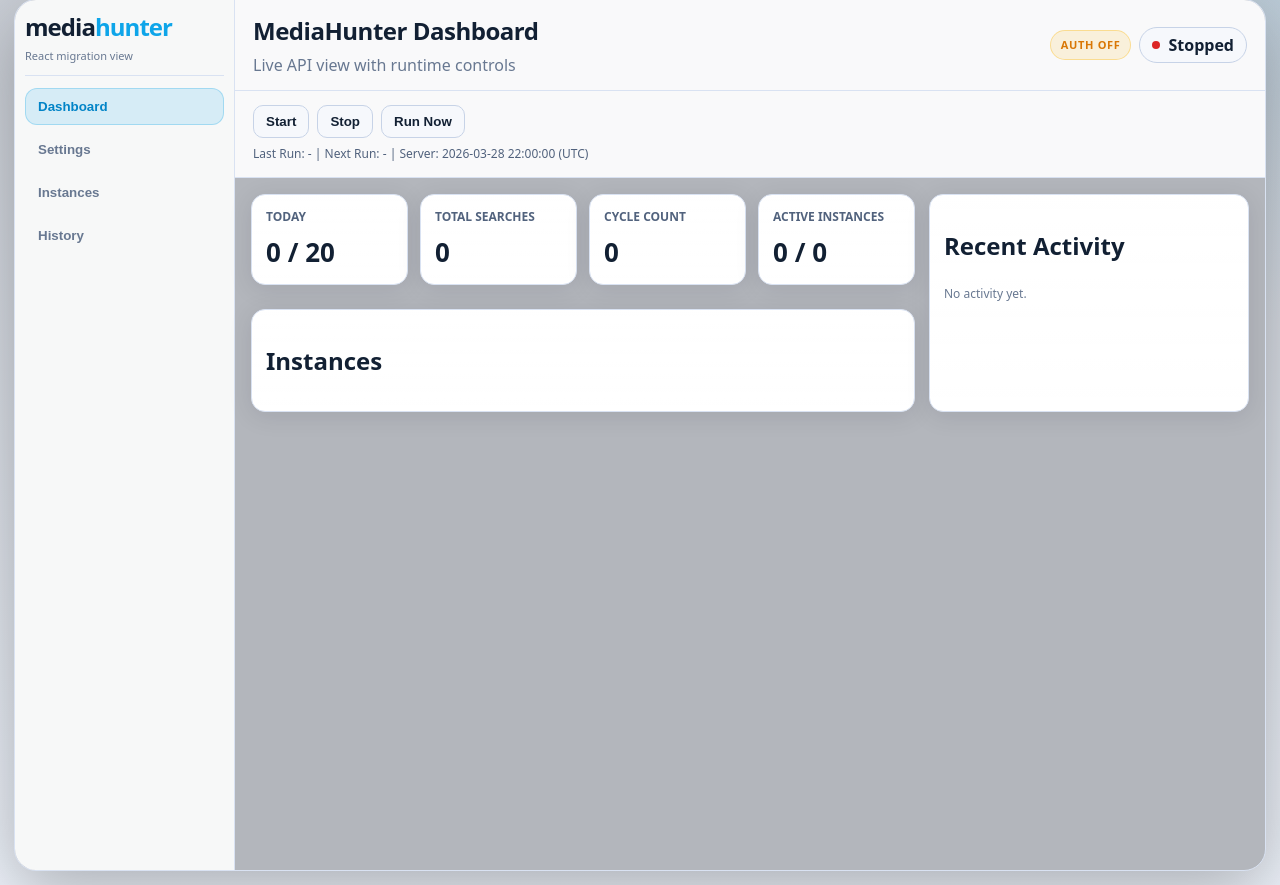
Test: DashboardPage › allows switching between tabs
This screenshot has width=1280, height=885.
expect the button "Dashboard" is shown: met, box [25,88,224,125]
Click the button "Settings": (124, 150) [25,131,224,168]
(page scrolled)
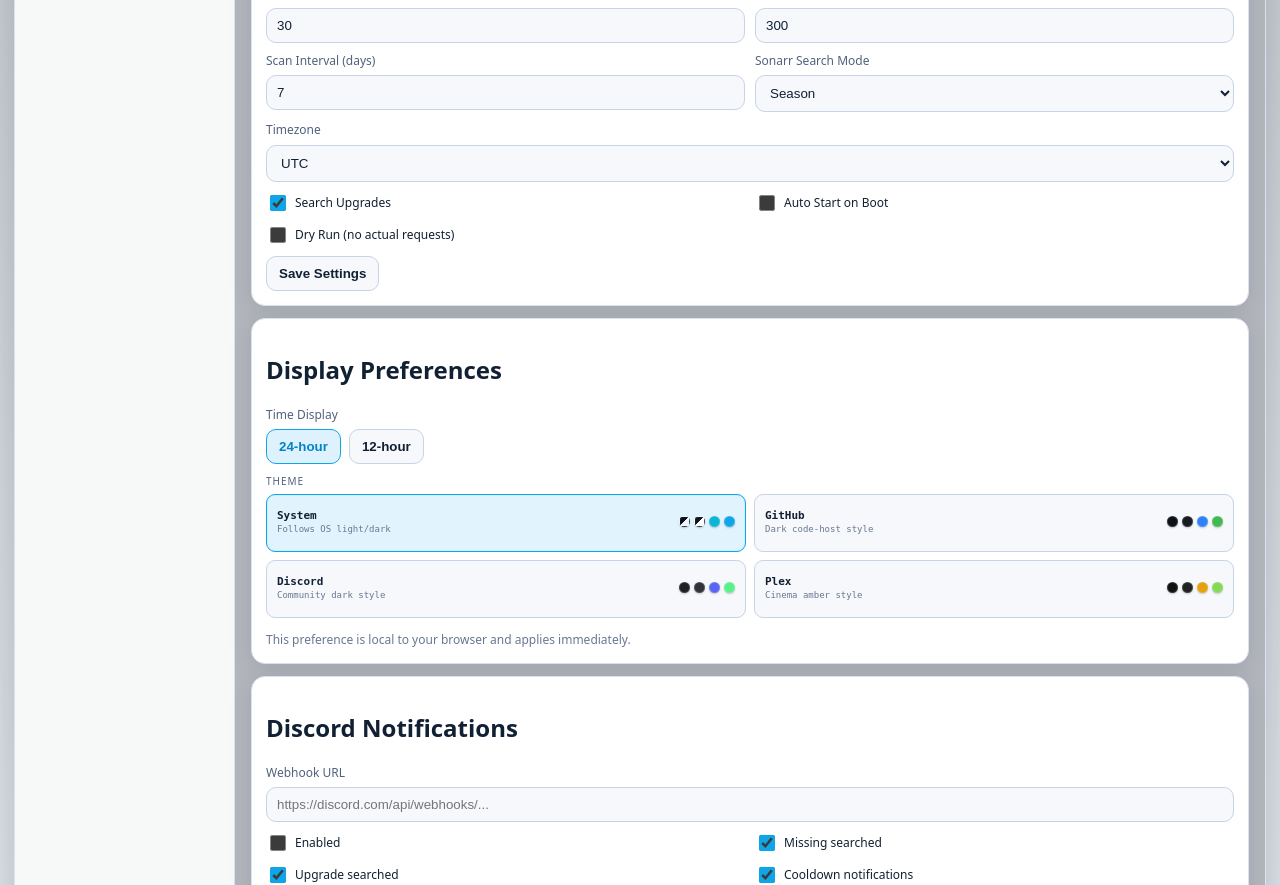
expect the text "Time Display 24-hour 12-hour" is shown: met, box [266,406,424,464]
